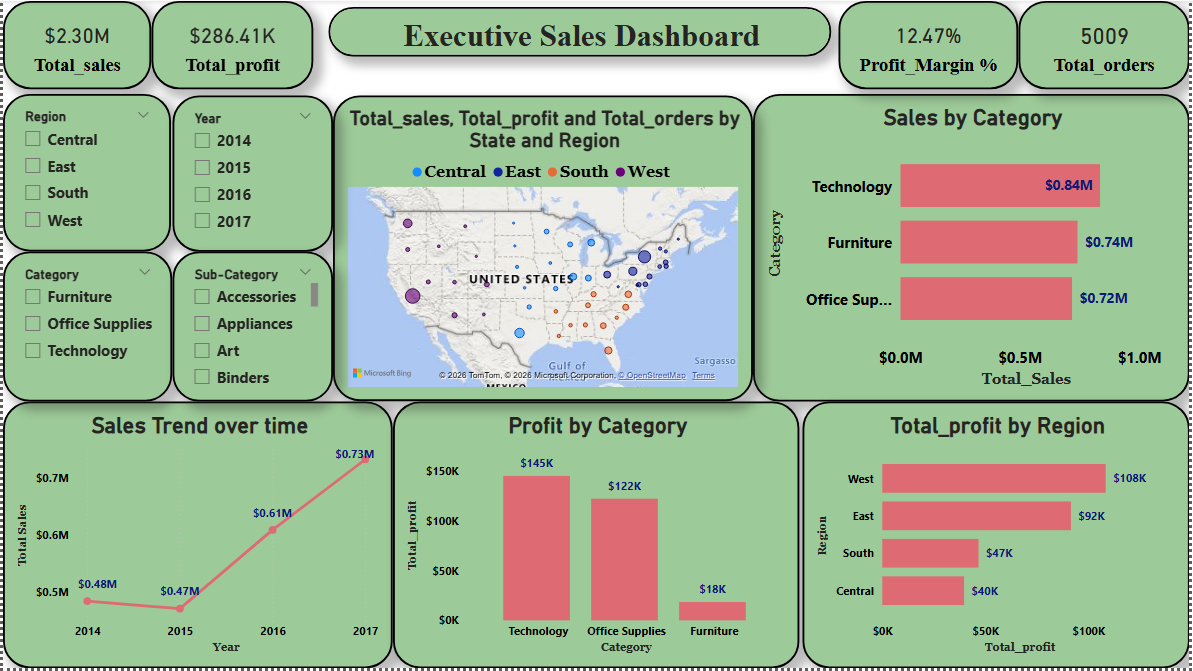

The dashboard page shown, as its layout file describes it:
{"tool":"powerbi","page":{"name":"Executive sales overview","canvas":[1280,720],"ordinal":1},"visuals":[{"type":"lineChart","title":"Sales Trend over time","fields":{"Category":["cleaned_ecommerce_sales.Year"],"Y":["Measures (2).Total_sales"]},"box":[0,432.3,421,288.2],"z":0},{"type":"clusteredBarChart","title":"Sales by Category","fields":{"Category":["cleaned_ecommerce_sales.Category"],"Y":["Measures (2).Total_sales"]},"box":[809.6,100.4,471.2,331.9],"z":1000},{"type":"clusteredColumnChart","title":"Profit by Category","fields":{"Category":["cleaned_ecommerce_sales.Category"],"Y":["Measures (2).Total_profit"]},"box":[421,432.3,438.8,288.2],"z":2000},{"type":"map","fields":{"Series":["cleaned_ecommerce_sales.Region"],"Size":["Measures (2).Total_sales"],"Category":["cleaned_ecommerce_sales.State"]},"box":[356.2,102,453.4,330.3],"z":3000},{"type":"clusteredBarChart","fields":{"Category":["cleaned_ecommerce_sales.Region"],"Y":["Measures (2).Total_profit"]},"box":[863,432.3,417.8,288.2],"z":4000},{"type":"textbox","title":"Executive Sales Dashboard","box":[351.4,6.5,542.4,53.4],"z":5000},{"type":"card","fields":{"Values":["Measures (2).Total_sales"]},"box":[0,0,160.3,95.5],"z":6000},{"type":"card","fields":{"Values":["Measures (2).Profit_Margin %"]},"box":[901.9,0,194.3,95.5],"z":7000},{"type":"card","fields":{"Values":["Measures (2).Total_profit"]},"box":[160.3,0,174.9,95.5],"z":8000},{"type":"slicer","fields":{"Values":["cleaned_ecommerce_sales.Region"]},"box":[0,100.4,181.4,170],"z":9000},{"type":"slicer","fields":{"Values":["cleaned_ecommerce_sales.Year"]},"box":[183,102,173.3,168.4],"z":10000},{"type":"slicer","fields":{"Values":["cleaned_ecommerce_sales.Category"]},"box":[0,270.4,183,161.9],"z":11000},{"type":"slicer","fields":{"Values":["cleaned_ecommerce_sales.Sub-Category"]},"box":[183,270.4,173.3,161.9],"z":12000},{"type":"card","fields":{"Values":["Measures (2).Total_orders"]},"box":[1096.2,0,184.6,95.5],"z":13000}]}

Visuals, with their boxes in screenshot pixels (x1, y1, x2, y2), scaled from the page's 1280x720 canvas onto the 1193x671 screenshot:
"Sales Trend over time" lineChart: x1=0, y1=403, x2=392, y2=670
"Sales by Category" clusteredBarChart: x1=755, y1=94, x2=1192, y2=403
"Profit by Category" clusteredColumnChart: x1=392, y1=403, x2=801, y2=670
map - cleaned_ecommerce_sales.Region x Measures (2).Total_sales: x1=332, y1=95, x2=755, y2=403
clusteredBarChart - cleaned_ecommerce_sales.Region x Measures (2).Total_profit: x1=804, y1=403, x2=1192, y2=670
"Executive Sales Dashboard" textbox: x1=328, y1=6, x2=833, y2=56
card - Measures (2).Total_sales: x1=0, y1=0, x2=149, y2=89
card - Measures (2).Profit_Margin %: x1=841, y1=0, x2=1022, y2=89
card - Measures (2).Total_profit: x1=149, y1=0, x2=312, y2=89
slicer - cleaned_ecommerce_sales.Region: x1=0, y1=94, x2=169, y2=252
slicer - cleaned_ecommerce_sales.Year: x1=171, y1=95, x2=332, y2=252
slicer - cleaned_ecommerce_sales.Category: x1=0, y1=252, x2=171, y2=403
slicer - cleaned_ecommerce_sales.Sub-Category: x1=171, y1=252, x2=332, y2=403
card - Measures (2).Total_orders: x1=1022, y1=0, x2=1192, y2=89
